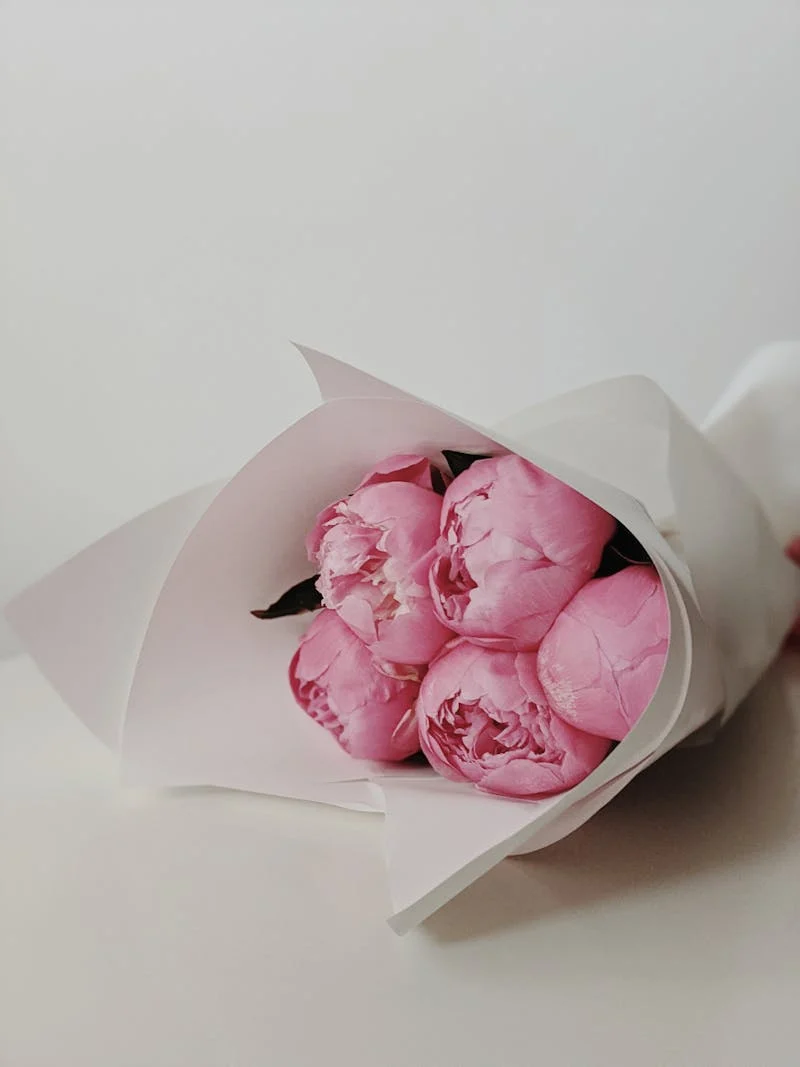Pink: (435, 456, 607, 655), (305, 456, 454, 678), (416, 641, 609, 795), (535, 564, 696, 741), (288, 617, 430, 765)
